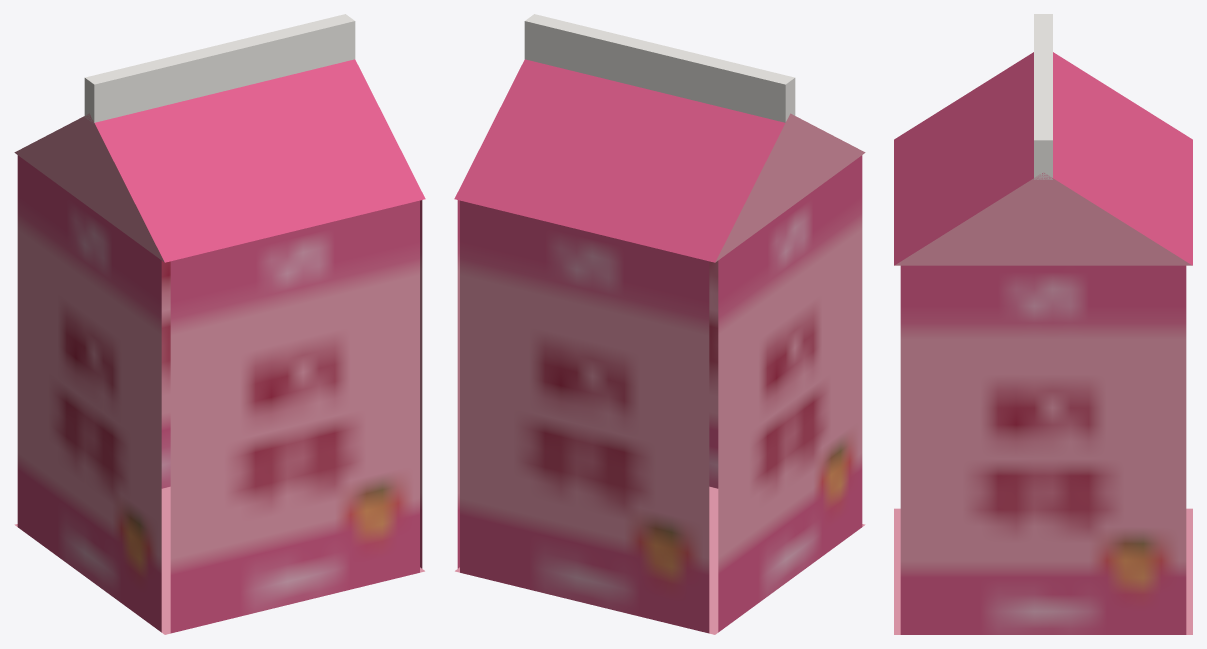
The model's file is SC_Prod_Milk_Carton_200_Strawberry.gltf.
3 renders of one model, left to right at view 1: azimuth 30°, elevation 25°; view 2: azimuth 150°, elevation 25°; view 3: azimuth 270°, elevation 25°, orthographic.
Parts seen in each view (by area): view 1: SC_Prod_Milk_Carton_200_Strawberry; view 2: SC_Prod_Milk_Carton_200_Strawberry; view 3: SC_Prod_Milk_Carton_200_Strawberry.
Part boxes in pixels (left/top/right/bottom): SC_Prod_Milk_Carton_200_Strawberry: left=14, top=14, right=425, bottom=634; SC_Prod_Milk_Carton_200_Strawberry: left=454, top=14, right=865, bottom=634; SC_Prod_Milk_Carton_200_Strawberry: left=894, top=14, right=1192, bottom=634.
Bounding box in the file's own units: 0.055 × 0.1005 × 0.055.
Materials: 2 (2 with a texture image).
